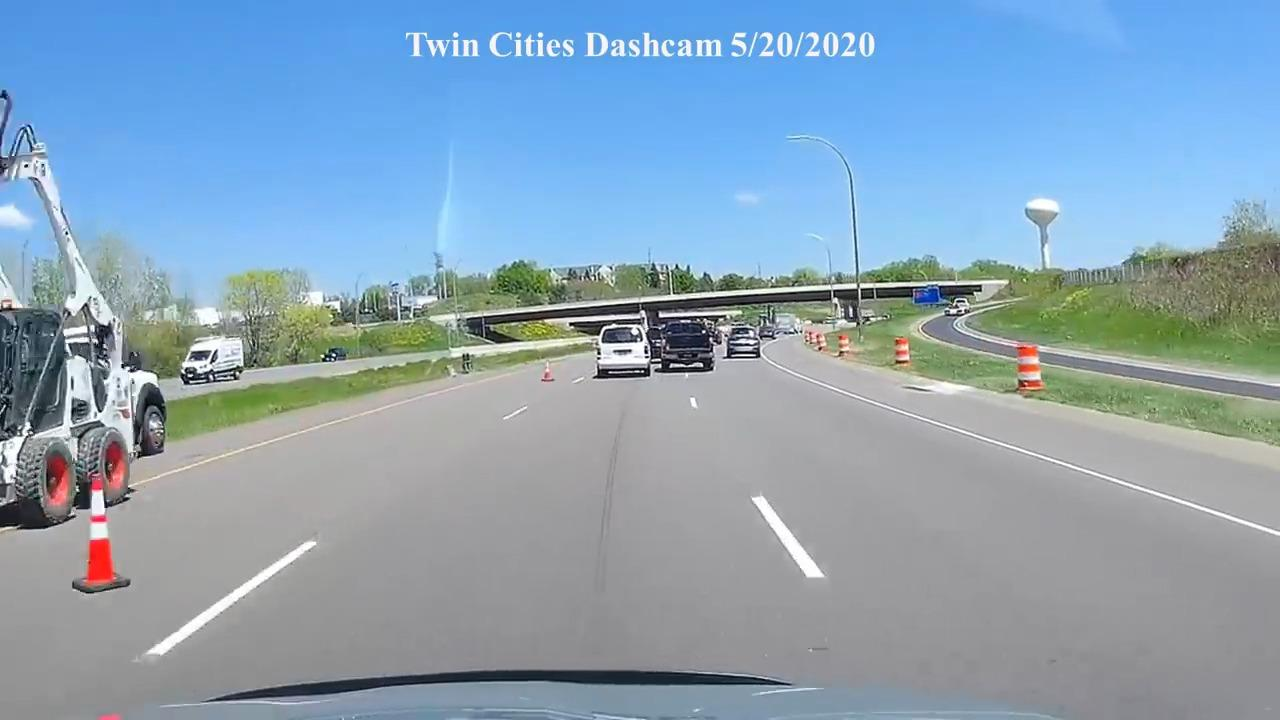car: (180, 336, 244, 386), (594, 324, 652, 378), (322, 347, 347, 362)
traffic cone: (71, 472, 130, 595), (1016, 343, 1046, 395), (893, 337, 911, 364), (837, 333, 850, 357), (540, 362, 555, 382)
